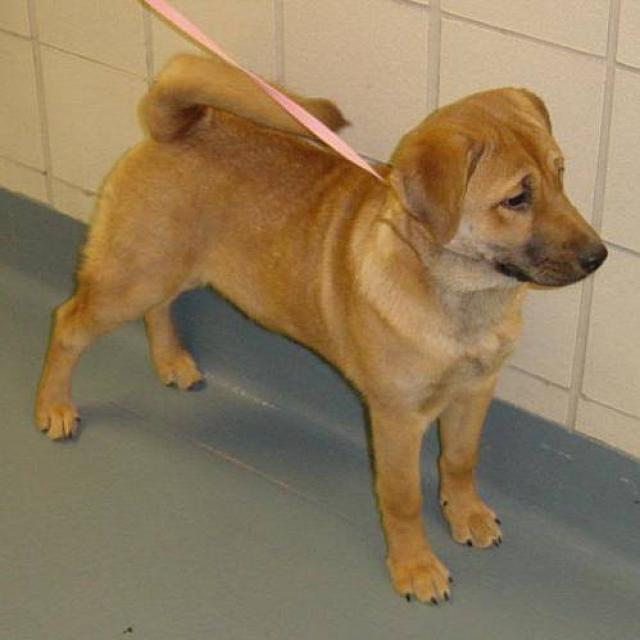dog: (32, 52, 608, 606)
